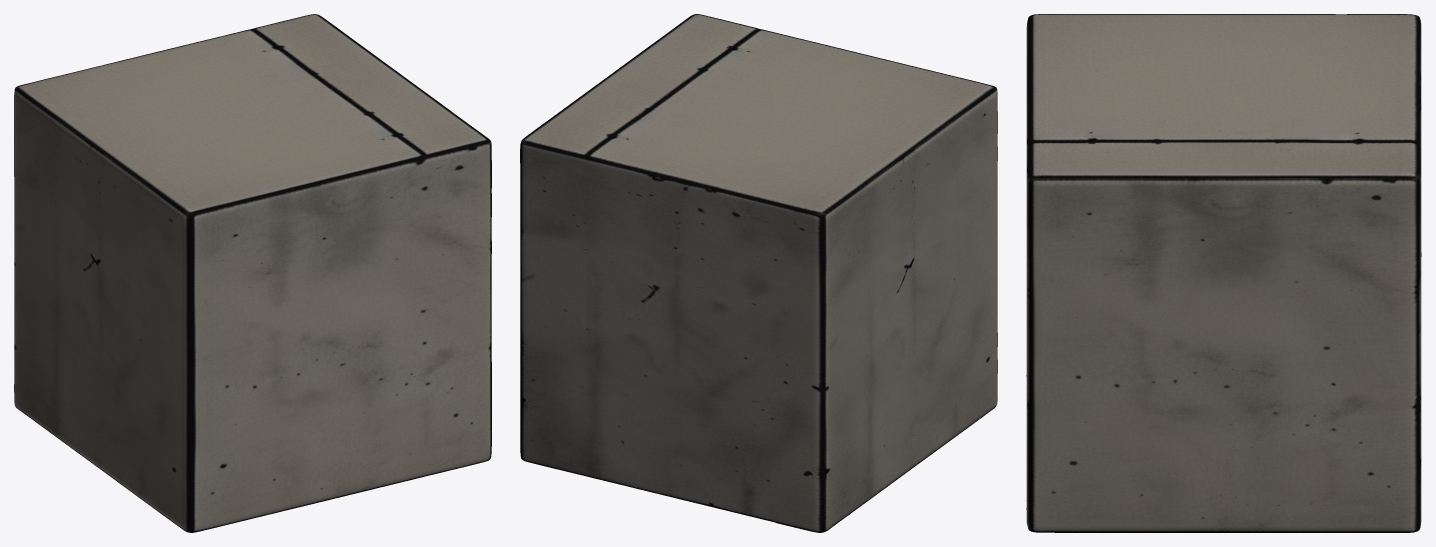
File: pillar-concrete.glb
3 renders of one model, left to right at view 1: azimuth 30°, elevation 25°; view 2: azimuth 150°, elevation 25°; view 3: azimuth 270°, elevation 25°, orthographic. The views are drawn at different scales.
Visible parts, largest first — view 1: tmp9nj55v8a.ply; view 2: tmp9nj55v8a.ply; view 3: tmp9nj55v8a.ply.
Part boxes in pixels (bbox=[...]): tmp9nj55v8a.ply: bbox=[14, 14, 491, 532]; tmp9nj55v8a.ply: bbox=[520, 14, 997, 532]; tmp9nj55v8a.ply: bbox=[1026, 14, 1421, 532].
Size of the model in its own units: 1 by 1 by 1.
Materials: 1 (1 with a texture image).
